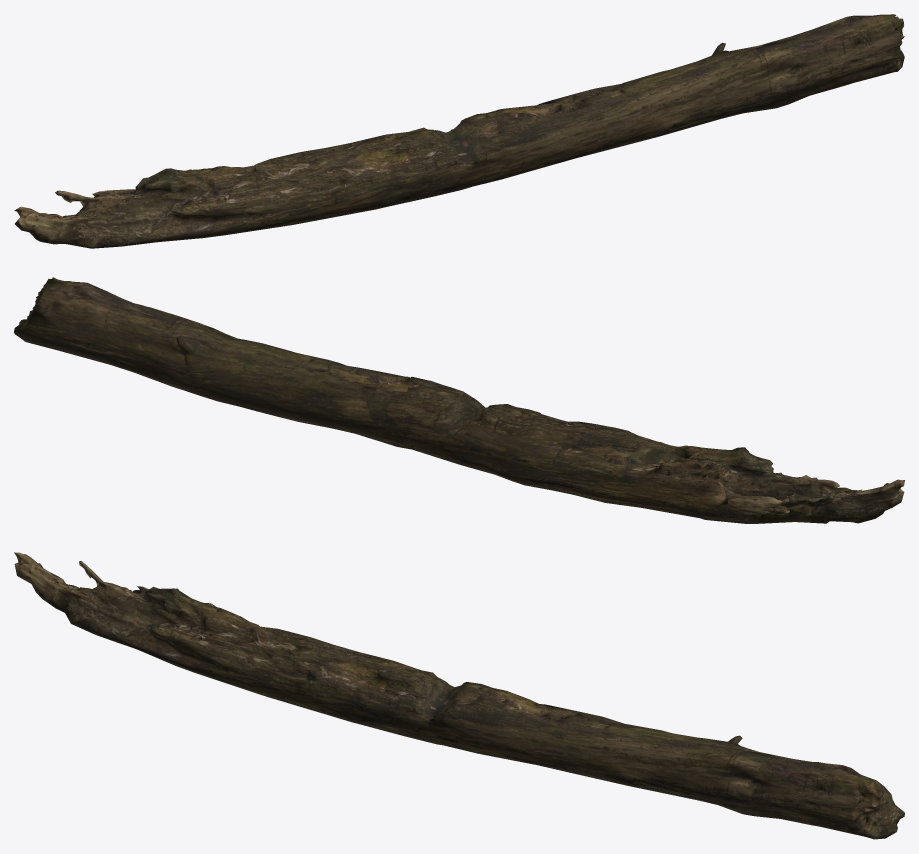
Rendered from dead_tree_trunk.glb.
3 renders of one model, top to bottom at view 1: azimuth 30°, elevation 25°; view 2: azimuth 150°, elevation 25°; view 3: azimuth 330°, elevation 25°, orthographic.
Parts seen in each view (by area): view 1: dead_tree_trunk; view 2: dead_tree_trunk; view 3: dead_tree_trunk.
Part boxes in pixels (bbox=[...]): dead_tree_trunk: bbox=[14, 14, 904, 248]; dead_tree_trunk: bbox=[14, 277, 904, 523]; dead_tree_trunk: bbox=[14, 552, 904, 839].
Bounding box in the file's own units: 3.05 × 0.2864 × 0.2775.
1 material, 1 textured.
